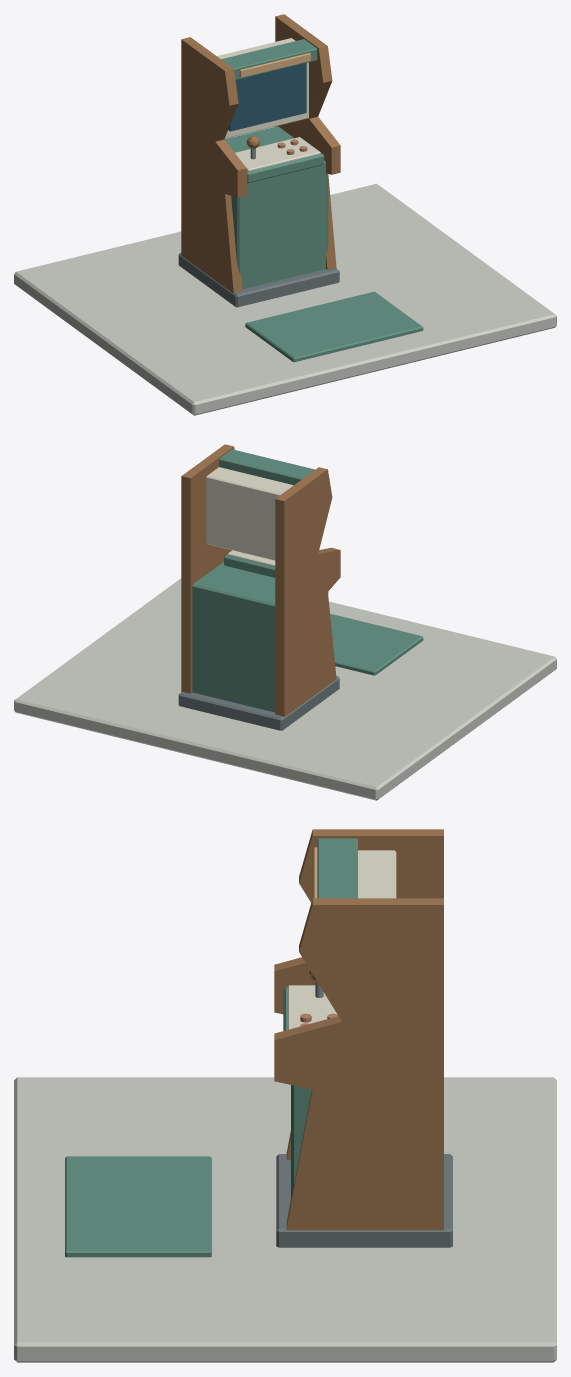
3 views of the same model, one above another, from view 1: azimuth 30°, elevation 25°; view 2: azimuth 150°, elevation 25°; view 3: azimuth 270°, elevation 25° (orthographic). The views are drawn at different scales.
Parts seen in each view (by area): view 1: CabinetAndSetting, Screen_Runtime; view 2: CabinetAndSetting; view 3: CabinetAndSetting.
Part boxes in pixels (x1=…): CabinetAndSetting: x1=14, y1=14, x2=556, y2=415; Screen_Runtime: x1=228, y1=63, x2=306, y2=131; CabinetAndSetting: x1=14, y1=444, x2=556, y2=800; CabinetAndSetting: x1=14, y1=829, x2=556, y2=1362.
Size of the model in its own units: 2.8 by 1.77 by 2.4.
